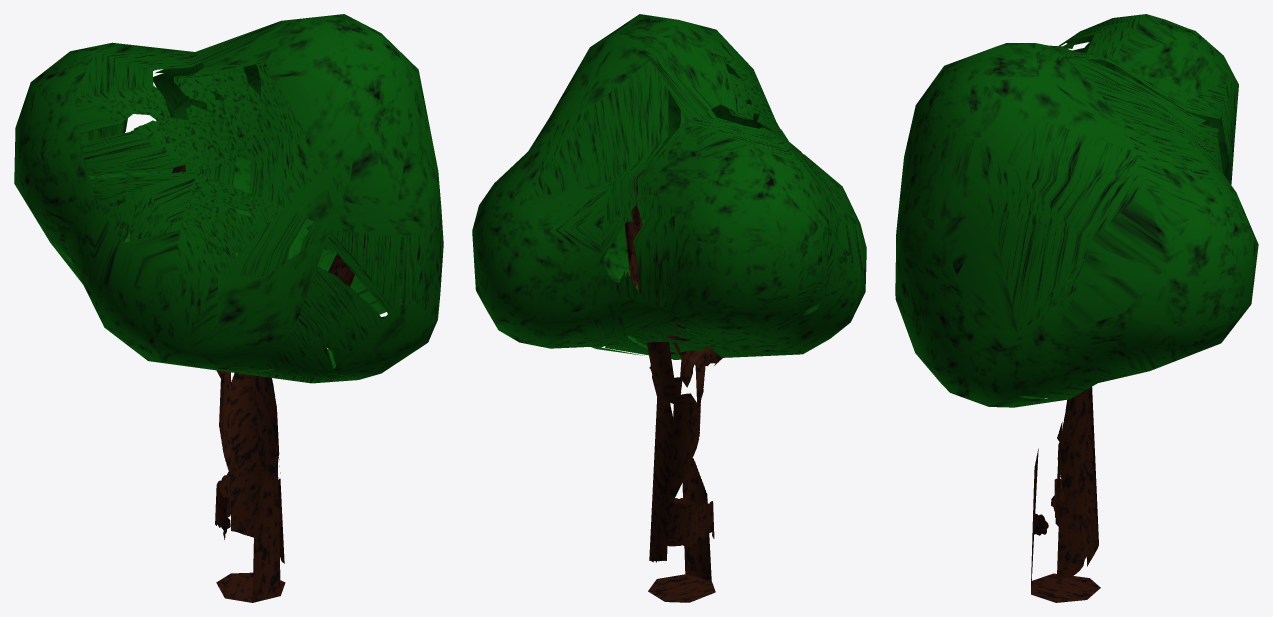
Rendered from Tree.fbx.
3 views of the same model, side by side, from view 1: azimuth 30°, elevation 25°; view 2: azimuth 150°, elevation 25°; view 3: azimuth 270°, elevation 25° (orthographic). The views are drawn at different scales.
Parts seen in each view (by area): view 1: Leaves_LOD0, Trunk_LOD0; view 2: Leaves_LOD0, Trunk_LOD0; view 3: Leaves_LOD0, Trunk_LOD0.
Part boxes in pixels (x1=…): Leaves_LOD0: x1=14, y1=14, x2=443, y2=383; Trunk_LOD0: x1=172, y1=165, x2=364, y2=602; Leaves_LOD0: x1=472, y1=14, x2=866, y2=359; Trunk_LOD0: x1=624, y1=169, x2=722, y2=602; Leaves_LOD0: x1=895, y1=14, x2=1258, y2=407; Trunk_LOD0: x1=1031, y1=387, x2=1100, y2=602.
Size of what is drawn, in the model's own units: 358 by 548 by 322.
